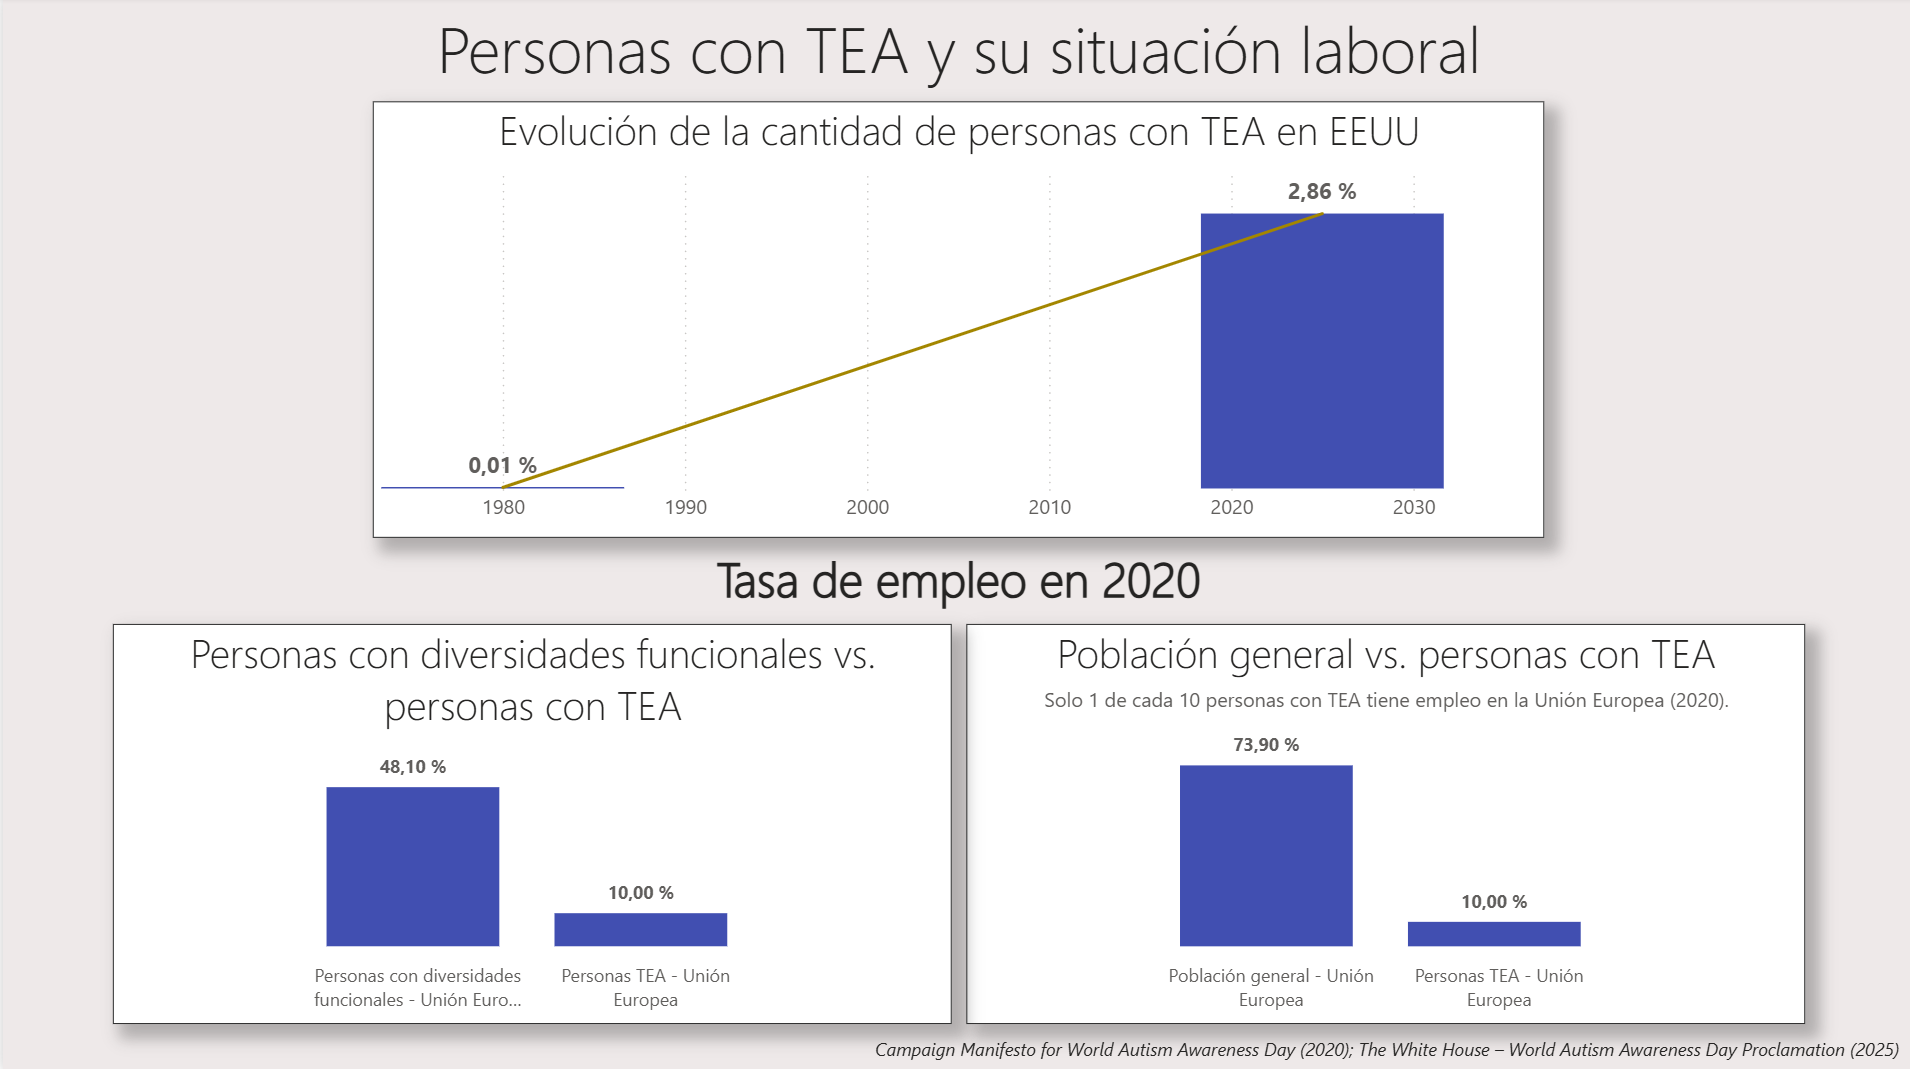

The page's visual inventory and layout, read from the dashboard file:
{"tool":"powerbi","page":{"name":"Página 1","canvas":[1280,720],"ordinal":0},"visuals":[{"type":"columnChart","title":"Población general vs. personas con TEA","fields":{"Category":["Ratios_empleo.Grupo poblacional"],"Y":["Sum(Ratios_empleo.Tasa de empleo (%))"]},"box":[646.1,420.1,562.3,268.4],"z":0},{"type":"lineStackedColumnComboChart","title":"Evolución de la cantidad de personas con TEA en EEUU","fields":{"Y":["Sum(Evolución_TEA_EEUU.Cantidad)"],"Category":["Evolución_TEA_EEUU.Año"],"Y2":["Sum(Evolución_TEA_EEUU.Cantidad)"]},"box":[247.7,69.7,785.5,292.9],"z":1000},{"type":"textbox","box":[73.5,0,1134.9,69.7],"z":2000},{"type":"textbox","box":[455.8,362.6,370.1,57.5],"z":3000},{"type":"columnChart","title":"Personas con diversidades funcionales vs. personas con TEA","fields":{"Category":["Ratios_empleo.Grupo poblacional"],"Y":["Sum(Ratios_empleo.Tasa de empleo (%))"]},"box":[73.5,420.1,562.3,268.4],"z":4000},{"type":"textbox","box":[579.8,690.7,700,28.9],"z":5000}]}

Visuals, with their boxes in screenshot pixels (x1, y1, x2, y2), scaled from the page's 1280x720 canvas onto the 1910x1069 screenshot:
"Población general vs. personas con TEA" columnChart: <box>964,624,1803,1022</box>
"Evolución de la cantidad de personas con TEA en EEUU" lineStackedColumnComboChart: <box>370,103,1542,538</box>
textbox: <box>110,0,1803,103</box>
textbox: <box>680,538,1232,624</box>
"Personas con diversidades funcionales vs. personas con TEA" columnChart: <box>110,624,949,1022</box>
textbox: <box>865,1025,1909,1068</box>
